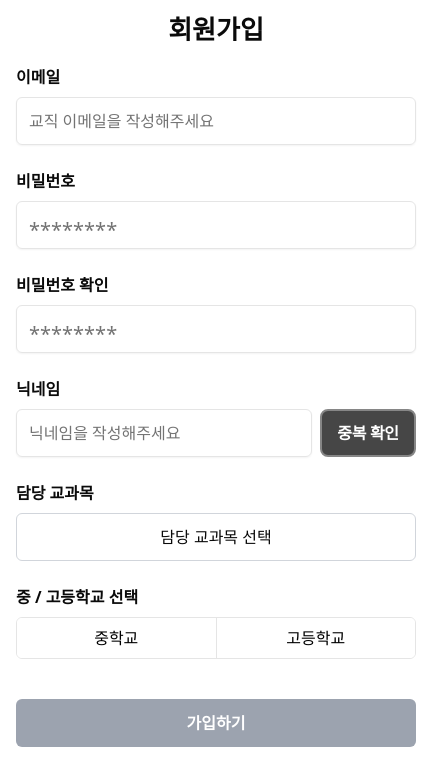
signup 컴포넌트 단위 테스트 › 8자 이하의 비밀번호 입력시 에러 메시지가 표시되고, 비밀번호 input의 border가 빨간색으로 변한다.
Type "123" into the password field labelled "비밀번호" at (216, 225), box [16,201,416,249]
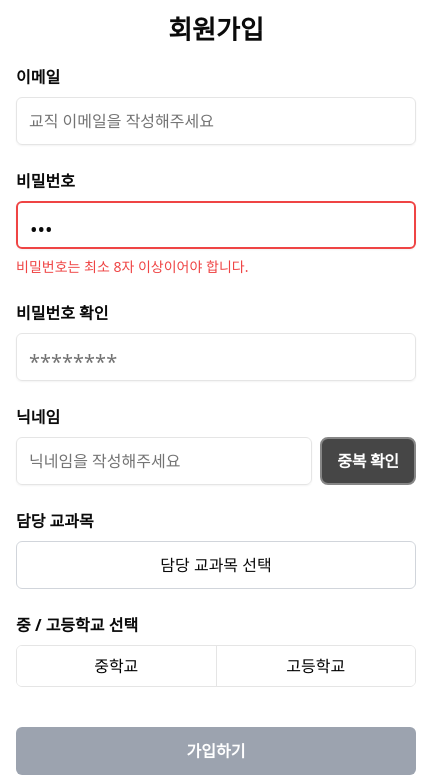
Result: the text "비밀번호는 최소 8자 이상이어야 합니다." is shown at [16,257,248,276]
